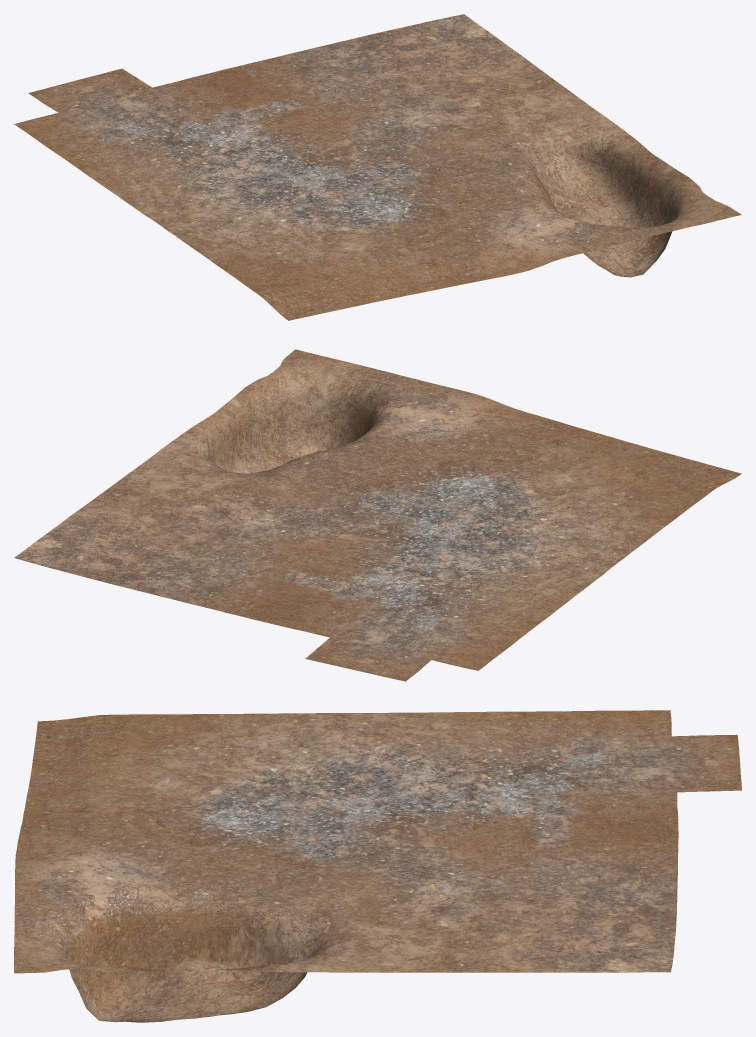
The model's file is Room_G_floor.gltf.
3 renders of one model, top to bottom at view 1: azimuth 30°, elevation 25°; view 2: azimuth 150°, elevation 25°; view 3: azimuth 270°, elevation 25°, orthographic. The views are drawn at different scales.
Parts seen in each view (by area): view 1: Room_G_floor_Pavimento_G_quad; view 2: Room_G_floor_Pavimento_G_quad; view 3: Room_G_floor_Pavimento_G_quad.
Boxes of the visible parts, left/top/right/bottom form: Room_G_floor_Pavimento_G_quad: left=14, top=14, right=741, bottom=320; Room_G_floor_Pavimento_G_quad: left=14, top=349, right=741, bottom=681; Room_G_floor_Pavimento_G_quad: left=14, top=710, right=741, bottom=1022.
Size of the model in its own units: 4.53 by 0.7076 by 5.29.
Materials: 1 (1 with a texture image).
